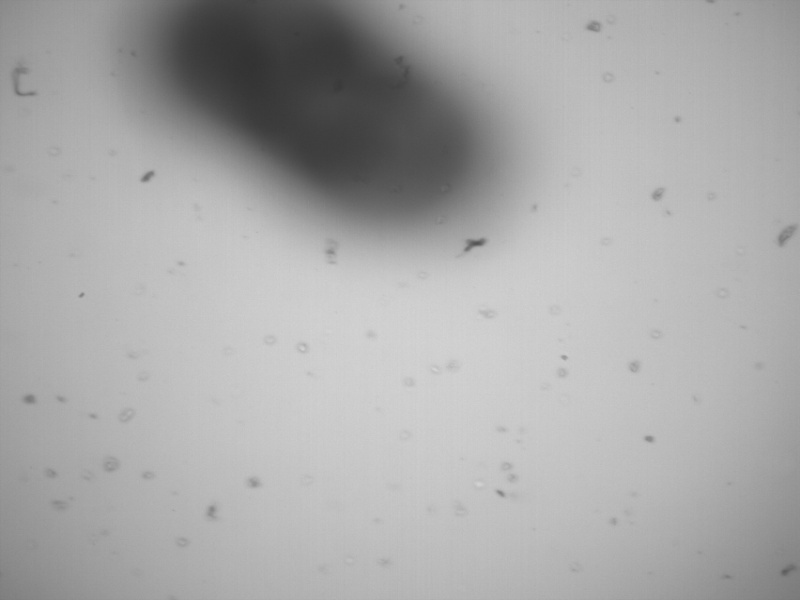bead: (295, 69, 476, 218), (160, 1, 350, 123)
fiber: (10, 63, 40, 99)
